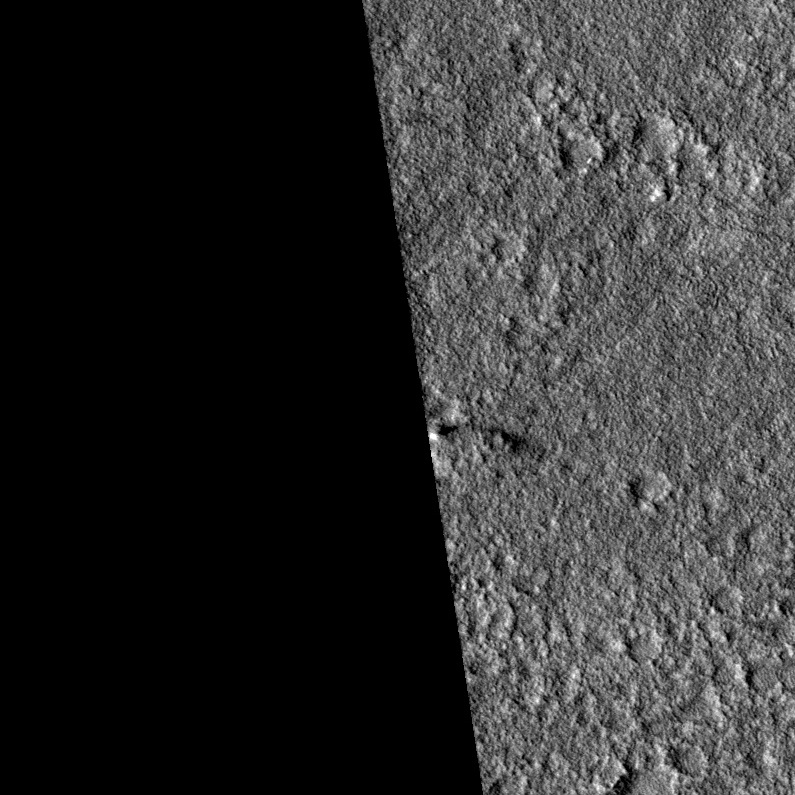dust_devil: (429, 420, 548, 458)
